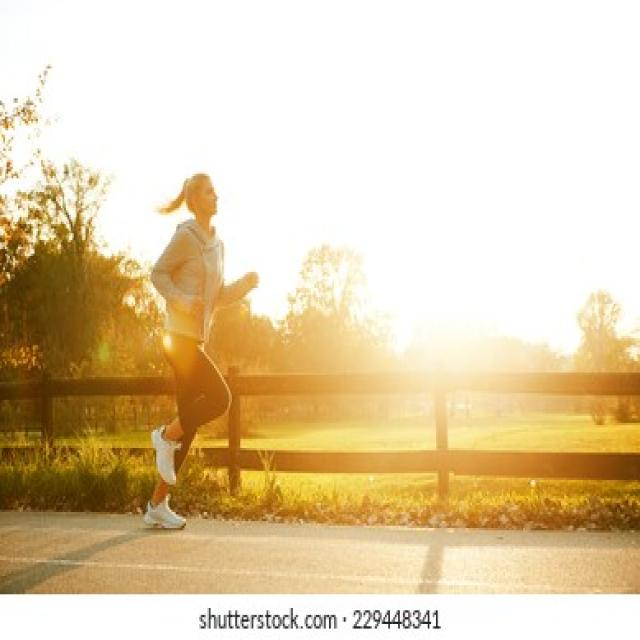running: (140, 168, 267, 532)
